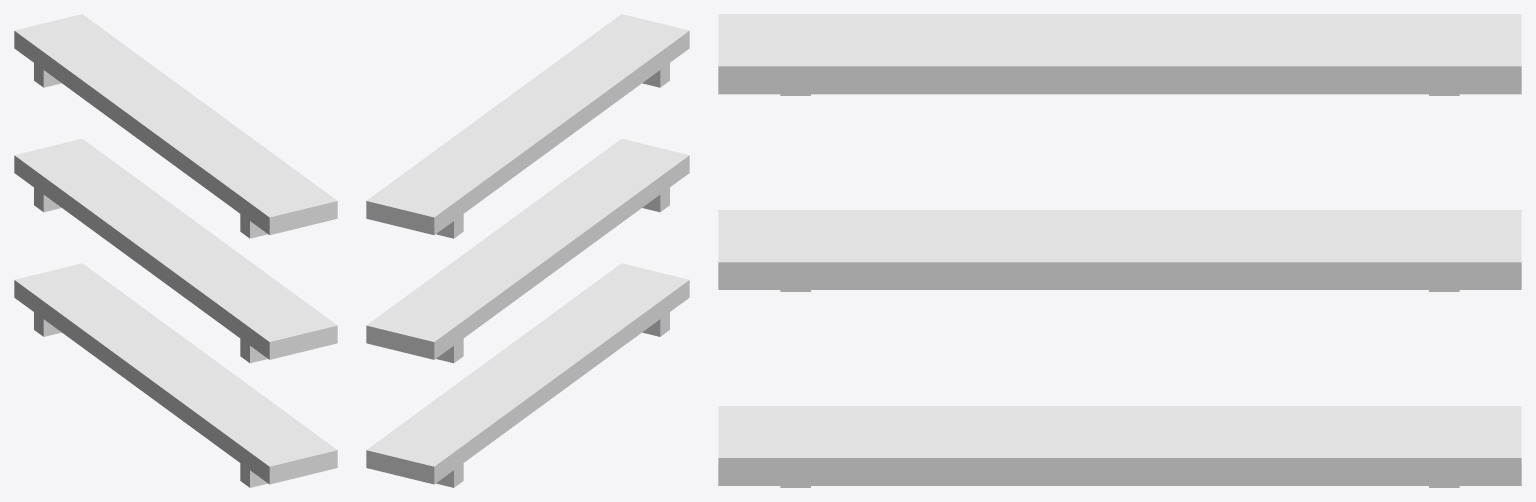
Rendered from Shelves.gltf.
The picture shows the model from 3 angles, left to right: view 1: azimuth 30°, elevation 25°; view 2: azimuth 150°, elevation 25°; view 3: azimuth 270°, elevation 25°; orthographic projection. The views are drawn at different scales.
Size of the model in its own units: 4 by 16 by 26.
Materials: 1 (1 with a texture image).
